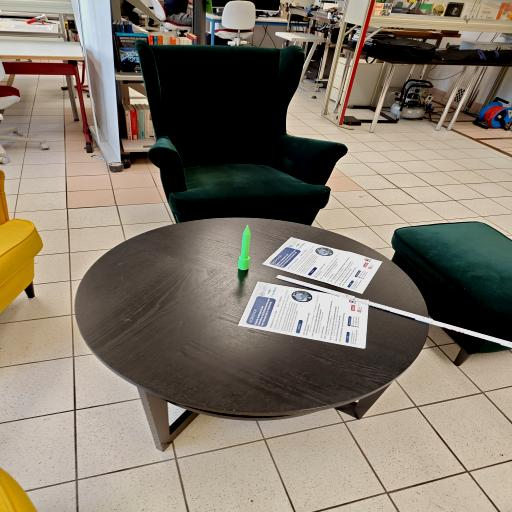Probe-Detection: (238, 225, 251, 270)
